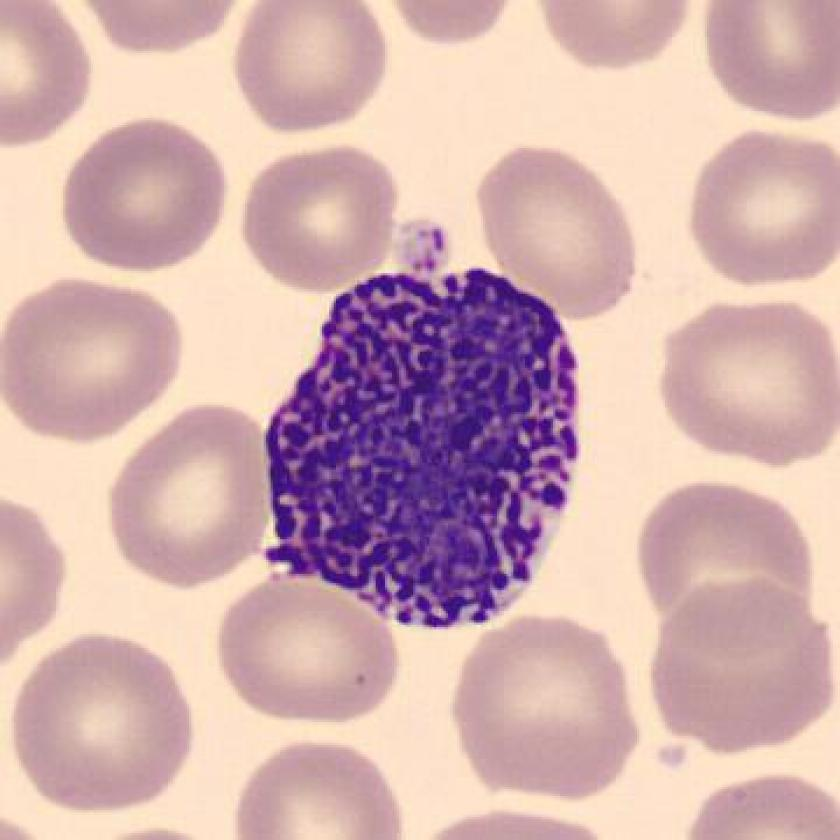basophil: (253, 267, 589, 633)
